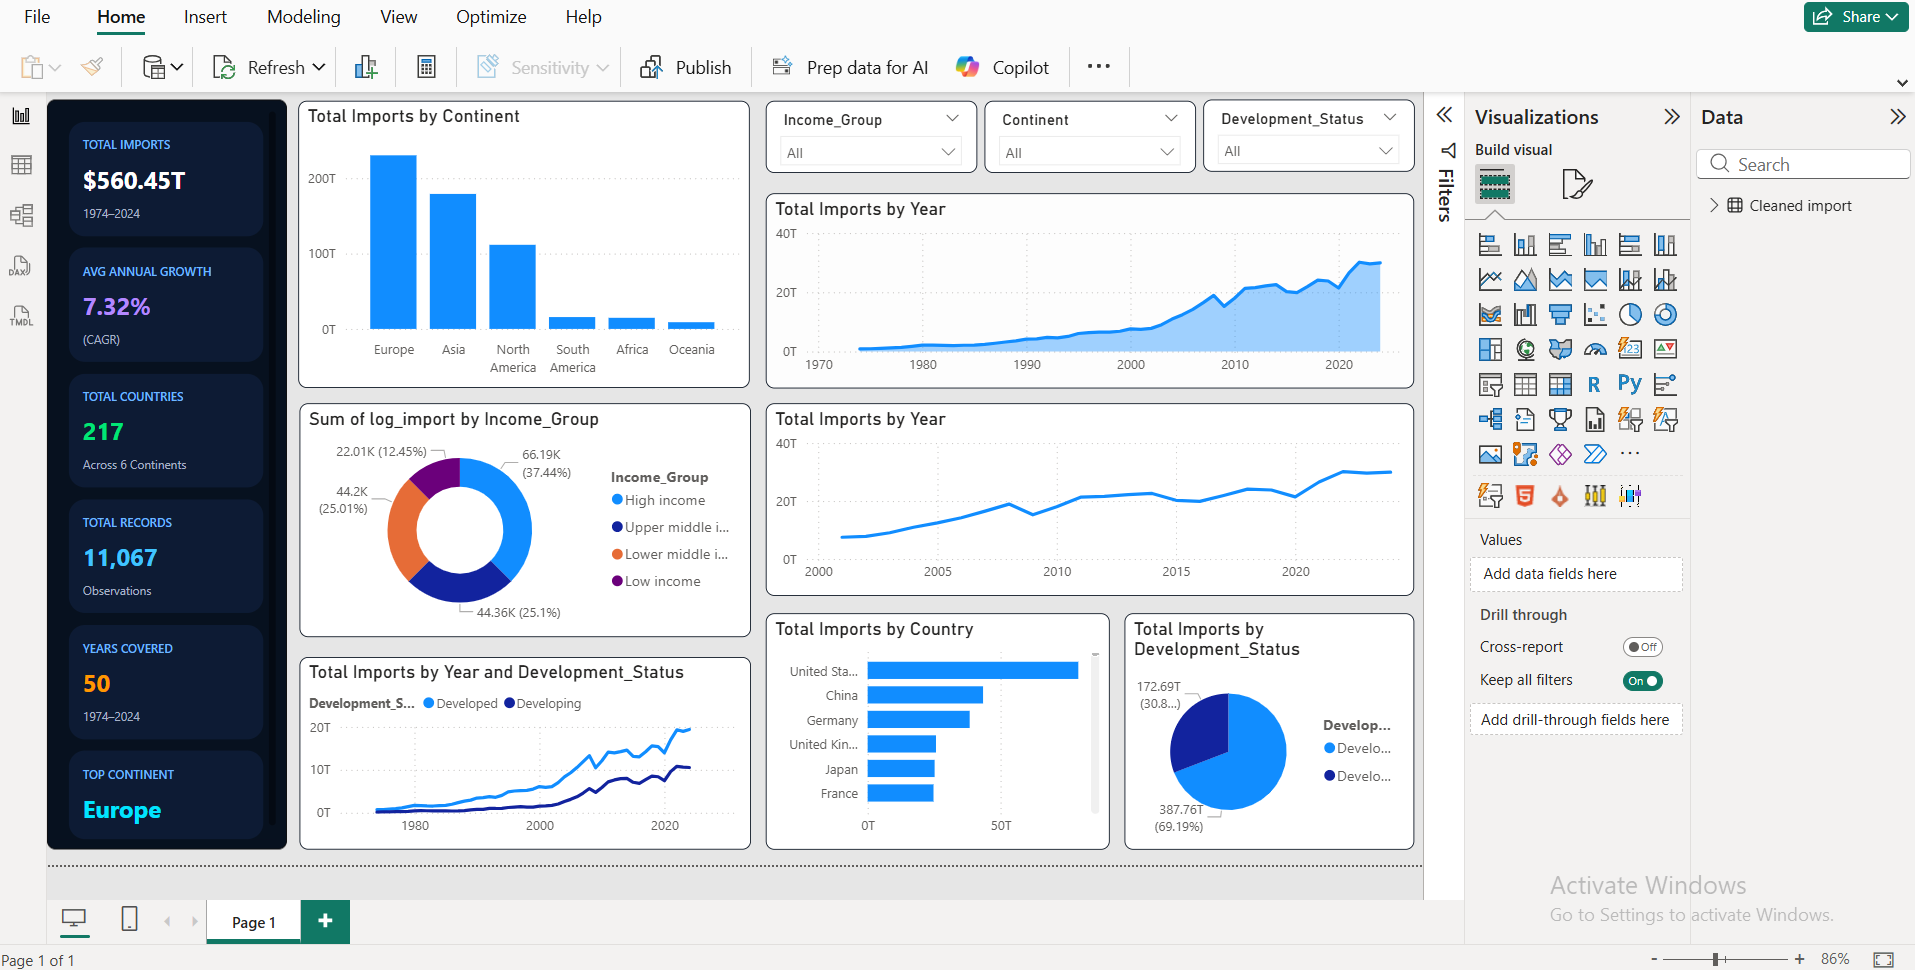

The dashboard page shown, as its layout file describes it:
{"tool":"powerbi","page":{"name":"Page 1","canvas":[1280,720],"ordinal":0},"visuals":[{"type":"htmlContent443BE3AD55E043BF878BED274D3A6855","fields":{"content":["Cleaned import.Dashboard Card"]},"box":[0,7,223.3,697.7],"z":0},{"type":"columnChart","fields":{"Category":["Cleaned import.Continent"],"Y":["Cleaned import.Total Imports"]},"box":[233.7,8.1,419.8,267.4],"z":1000},{"type":"areaChart","fields":{"Y":["Cleaned import.Total Imports"],"Category":["Cleaned import.Year"]},"box":[668.6,94.2,603.5,181.4],"z":2000},{"type":"donutChart","fields":{"Y":["Sum(Cleaned import.log_import)"],"Category":["Cleaned import.Income_Group"]},"box":[234.9,289.5,419.8,217.4],"z":3000},{"type":"lineChart","fields":{"Y":["Cleaned import.Total Imports"],"Category":["Cleaned import.Year"]},"box":[668.6,289.5,603.5,179.1],"z":4000},{"type":"barChart","fields":{"Category":["Cleaned import.Country"],"Y":["Cleaned import.Total Imports"]},"box":[668.6,484.9,319.8,219.8],"z":5000},{"type":"pieChart","fields":{"Category":["Cleaned import.Development_Status"],"Y":["Cleaned import.Total Imports"]},"box":[1002.3,484.9,269.8,219.8],"z":6000},{"type":"slicer","fields":{"Values":["Cleaned import.Income_Group"]},"box":[668.6,8.1,196.5,67.4],"z":7000},{"type":"slicer","fields":{"Values":["Cleaned import.Continent"]},"box":[872.1,8.1,196.5,67.4],"z":8000},{"type":"slicer","fields":{"Values":["Cleaned import.Development_Status"]},"box":[1075.6,7,196.5,67.4],"z":9000},{"type":"lineChart","fields":{"Category":["Cleaned import.Year"],"Y":["Cleaned import.Total Imports"],"Series":["Cleaned import.Development_Status"]},"box":[234.9,525.6,419.8,179.1],"z":10000}]}

Visuals, with their boxes on the page's 1280x720 design canvas (x1, y1, x2, y2). These are canvas units, not pixel positions in the 1915x970 screenshot, which may show the page scaled, cropped or inside an application window:
htmlContent443BE3AD55E043BF878BED274D3A6855 - Cleaned import.Dashboard Card: [0,7,223,705]
columnChart - Cleaned import.Continent x Cleaned import.Total Imports: [234,8,654,276]
areaChart - Cleaned import.Total Imports x Cleaned import.Year: [669,94,1272,276]
donutChart - Sum(Cleaned import.log_import) x Cleaned import.Income_Group: [235,290,655,507]
lineChart - Cleaned import.Total Imports x Cleaned import.Year: [669,290,1272,469]
barChart - Cleaned import.Country x Cleaned import.Total Imports: [669,485,988,705]
pieChart - Cleaned import.Development_Status x Cleaned import.Total Imports: [1002,485,1272,705]
slicer - Cleaned import.Income_Group: [669,8,865,76]
slicer - Cleaned import.Continent: [872,8,1069,76]
slicer - Cleaned import.Development_Status: [1076,7,1272,74]
lineChart - Cleaned import.Year x Cleaned import.Total Imports: [235,526,655,705]
